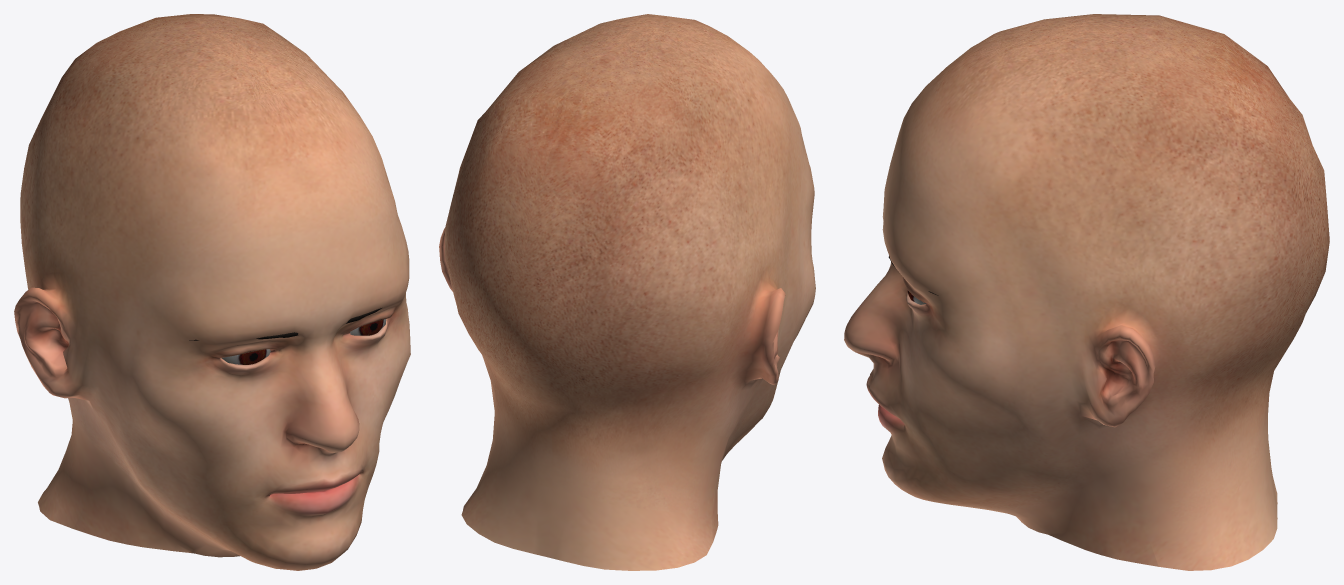
File: head_5_htn.fbx
3 renders of one model, left to right at view 1: azimuth 30°, elevation 25°; view 2: azimuth 150°, elevation 25°; view 3: azimuth 270°, elevation 25°, orthographic. The views are drawn at different scales.
Visible parts, largest first — view 1: head_5_htn; view 2: head_5_htn; view 3: head_5_htn.
Part boxes in pixels (x1,y1,x2,y2): head_5_htn: [14, 14, 410, 570]; head_5_htn: [439, 14, 815, 570]; head_5_htn: [844, 14, 1329, 570].
Bounding box in the file's own units: 77.4 × 100 × 90.99.
1 material, 1 textured.
